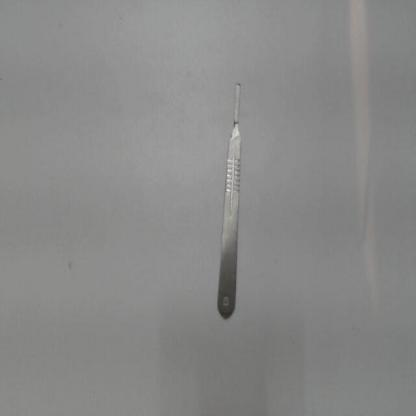No.4 BP Handle: (213, 74, 250, 322)
